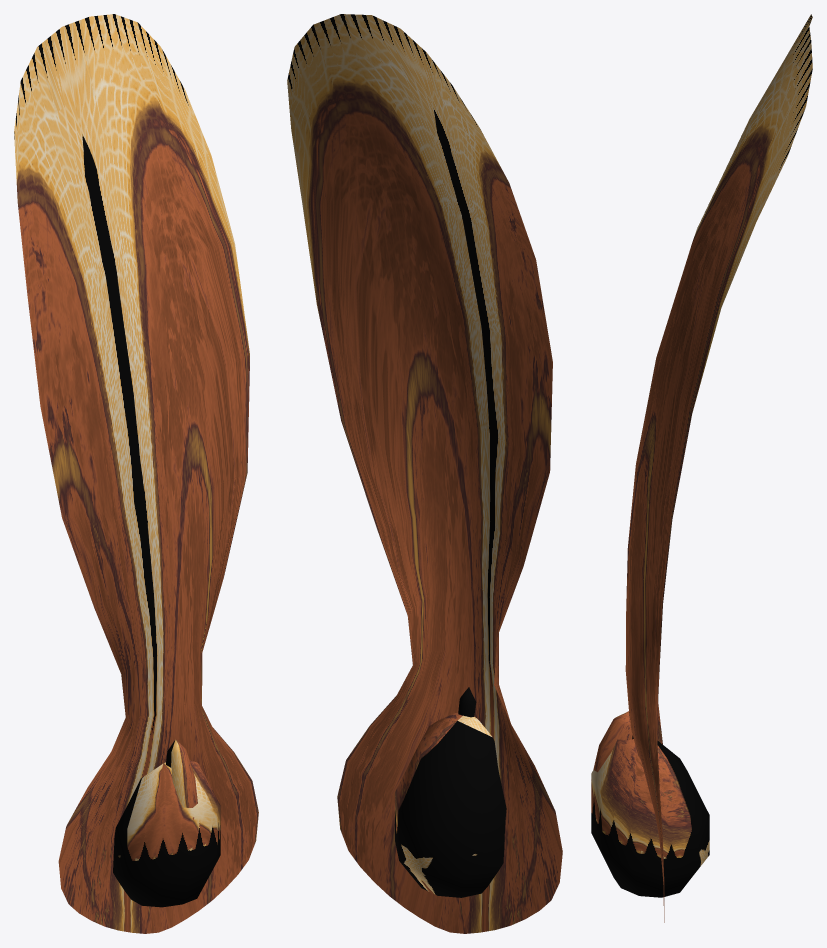
The model's file is Cseed.fbx.
3 renders of one model, left to right at view 1: azimuth 30°, elevation 25°; view 2: azimuth 150°, elevation 25°; view 3: azimuth 270°, elevation 25°, orthographic. The views are drawn at different scales.
Parts seen in each view (by area): view 1: Cseed; view 2: Cseed; view 3: Cseed.
Boxes of the visible parts, box(x1,y1,x2,y2) form: Cseed: box(14, 14, 258, 933); Cseed: box(287, 14, 562, 933); Cseed: box(591, 14, 812, 922).
Bounding box in the file's own units: 48.78 × 192 × 42.77.
